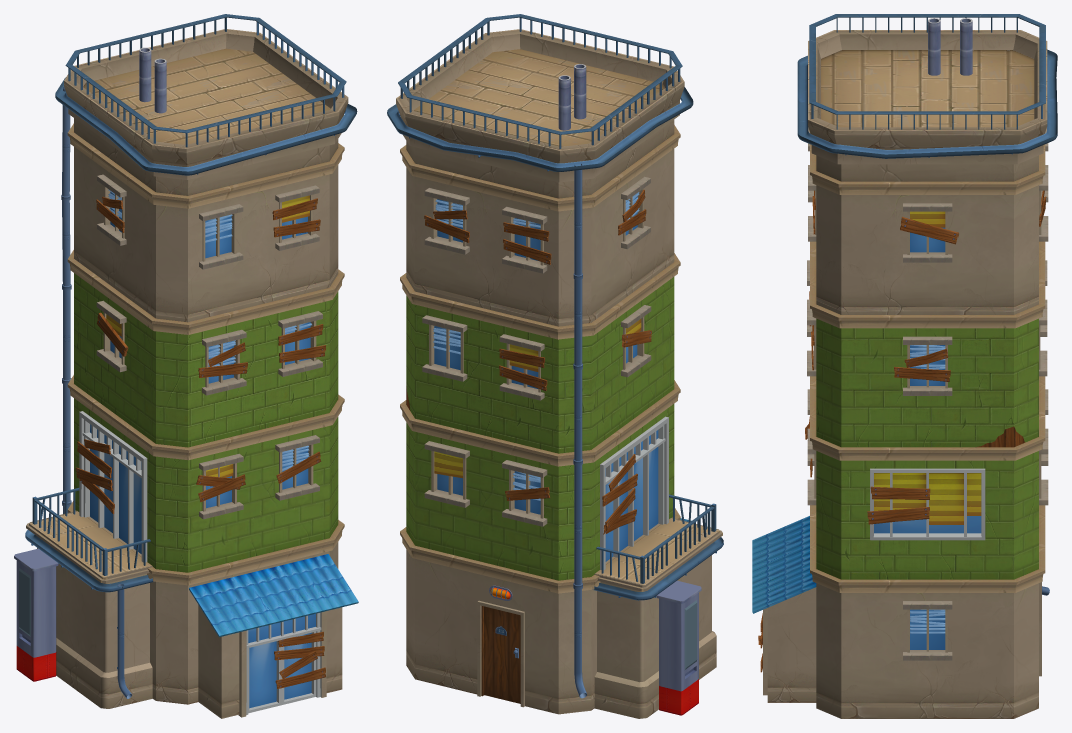
Rendered from Building_02_5.fbx.
The picture shows the model from 3 angles, left to right: view 1: azimuth 30°, elevation 25°; view 2: azimuth 150°, elevation 25°; view 3: azimuth 270°, elevation 25°; orthographic projection. The views are drawn at different scales.
Visible parts, largest first — view 1: polySurface3676; view 2: polySurface3676; view 3: polySurface3676.
Part boxes in pixels (<box>): polySurface3676: <box>14,14,358,718</box>; polySurface3676: <box>387,14,723,718</box>; polySurface3676: <box>752,14,1057,718</box>.
Size of the model in its own units: 736 by 1535 by 673.
